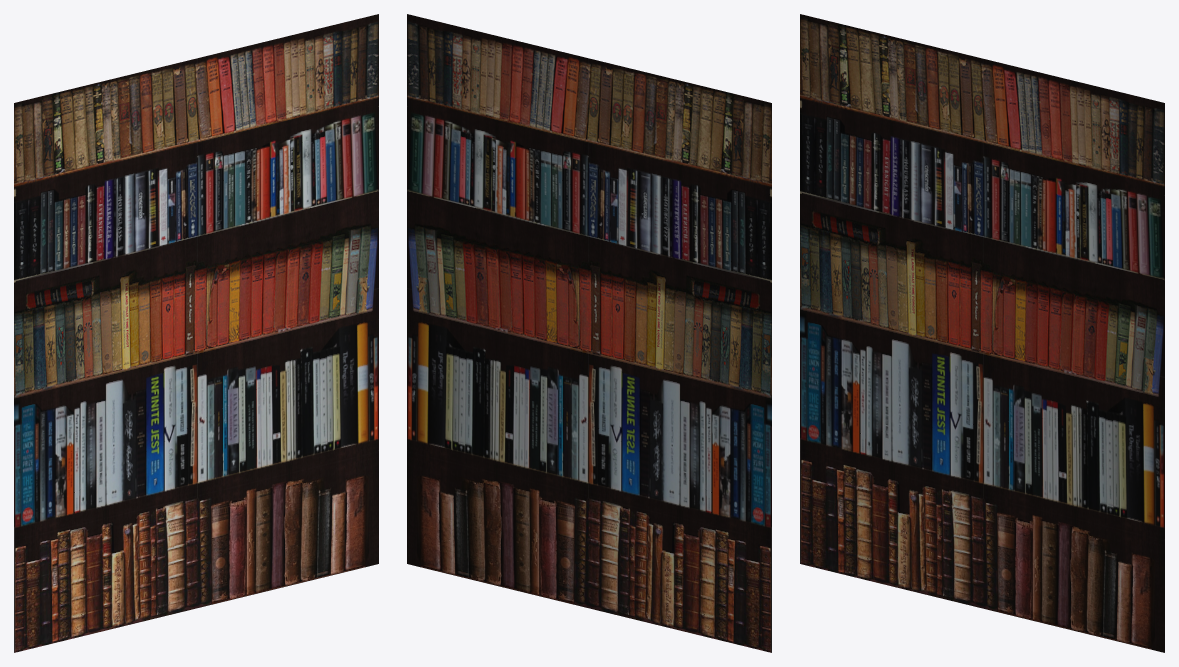
The model's file is books.obj.
3 renders of one model, left to right at view 1: azimuth 30°, elevation 25°; view 2: azimuth 150°, elevation 25°; view 3: azimuth 330°, elevation 25°, orthographic.
Parts seen in each view (by area): view 1: bookshelf_books; view 2: bookshelf_books; view 3: bookshelf_books.
Boxes of the visible parts, x1,y1,x2,y2 form: bookshelf_books: [14, 14, 378, 652]; bookshelf_books: [407, 14, 771, 652]; bookshelf_books: [800, 14, 1164, 652].
Bounding box in the file's own units: 2.3 × 3.31 × 9.83e-07.
Materials: 1 (1 with a texture image).
